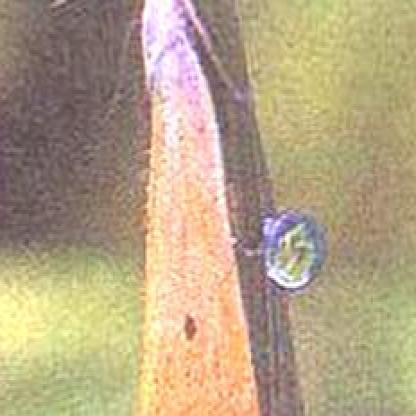stem-borer: (140, 0, 261, 416)
